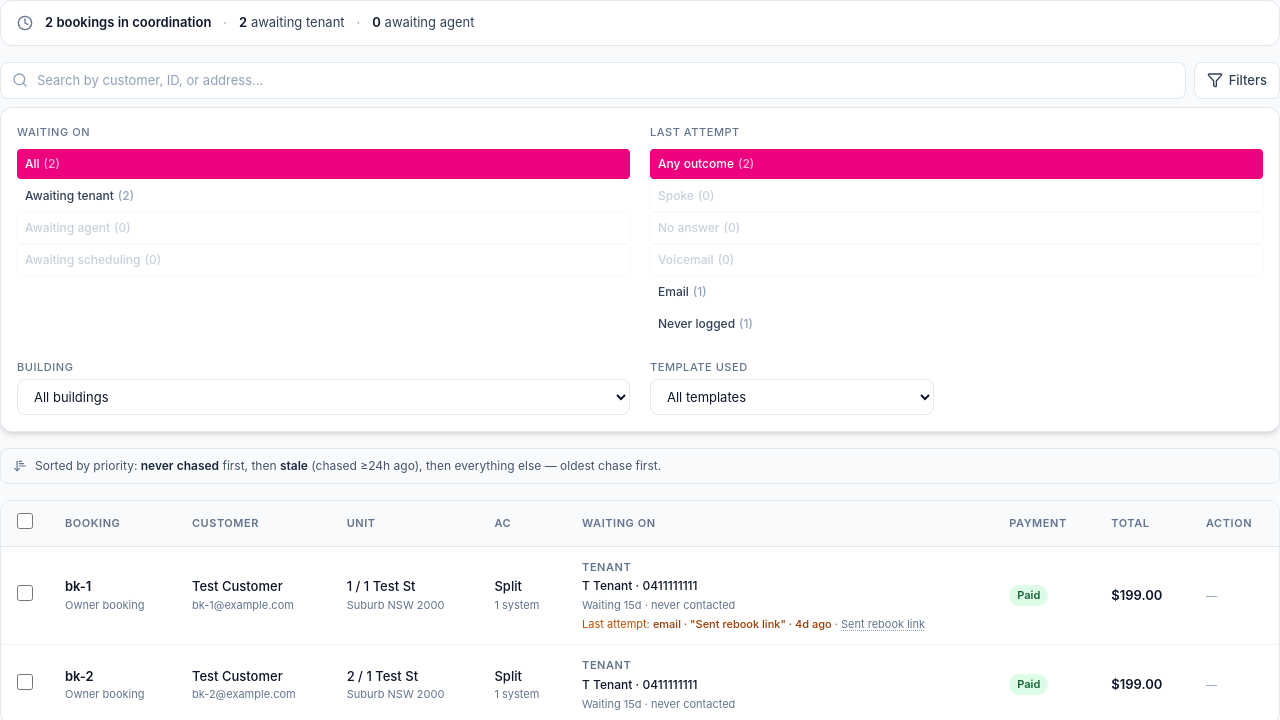
Test: AwaitingCoordinationView · bulk template picker sparklines › selecting an email-template option syncs the hidden select and closes the popover
Click the checkbox with test id "checkbox-coordination-row-bk-1".
click(25, 592)  # box x1=17 y1=584 x2=33 y2=600
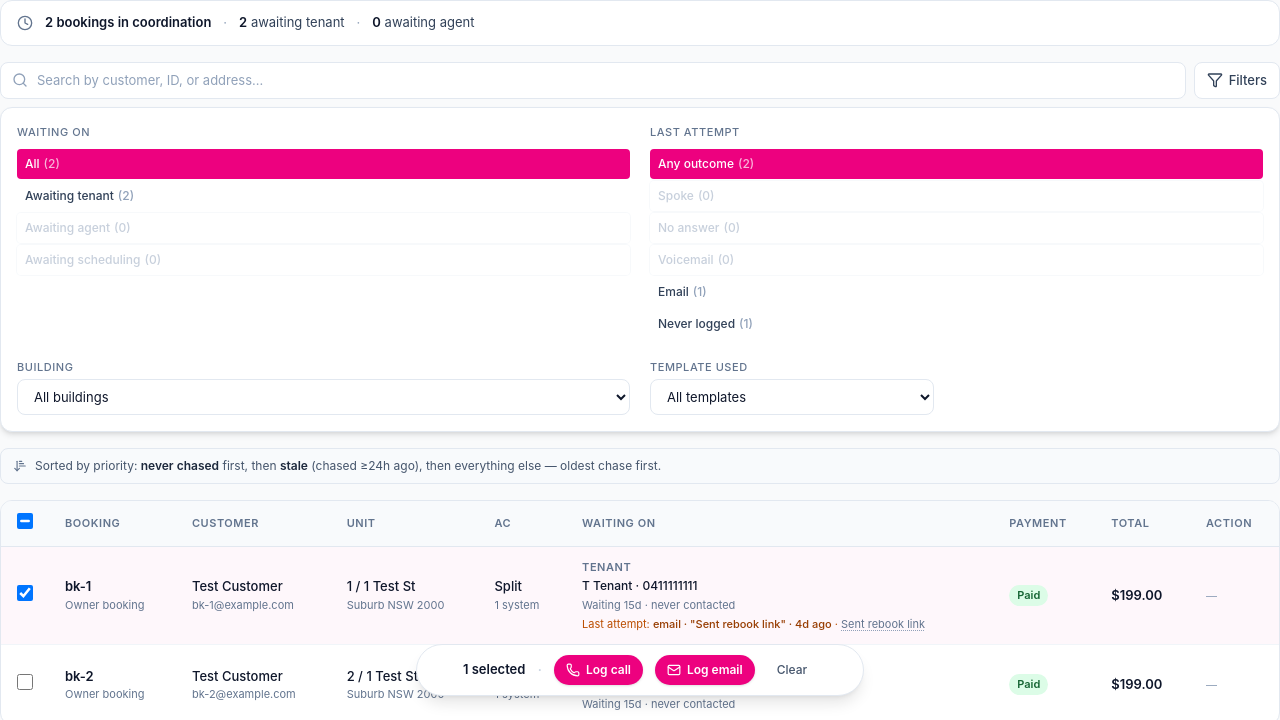
Click the checkbox with test id "checkbox-coordination-row-bk-2".
click(25, 682)  # box x1=17 y1=674 x2=33 y2=690
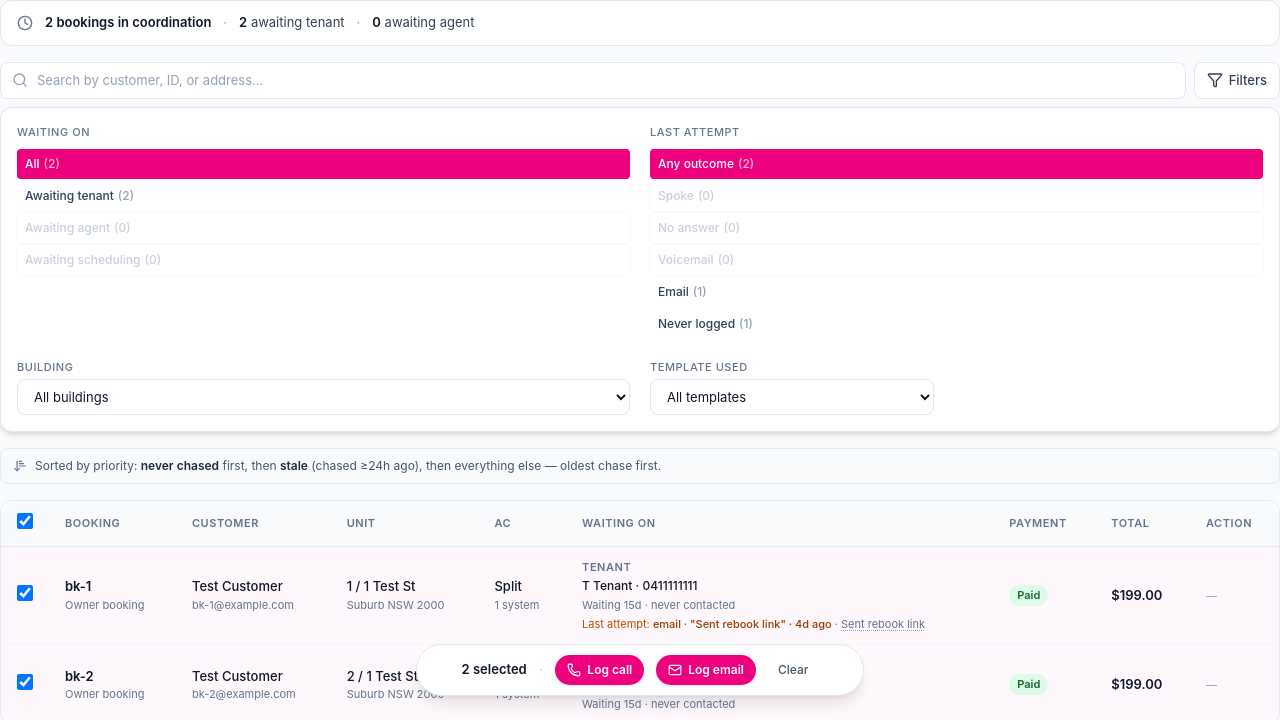
Click the button with test id "button-bulk-log-email".
click(706, 670)  # box x1=656 y1=655 x2=756 y2=685
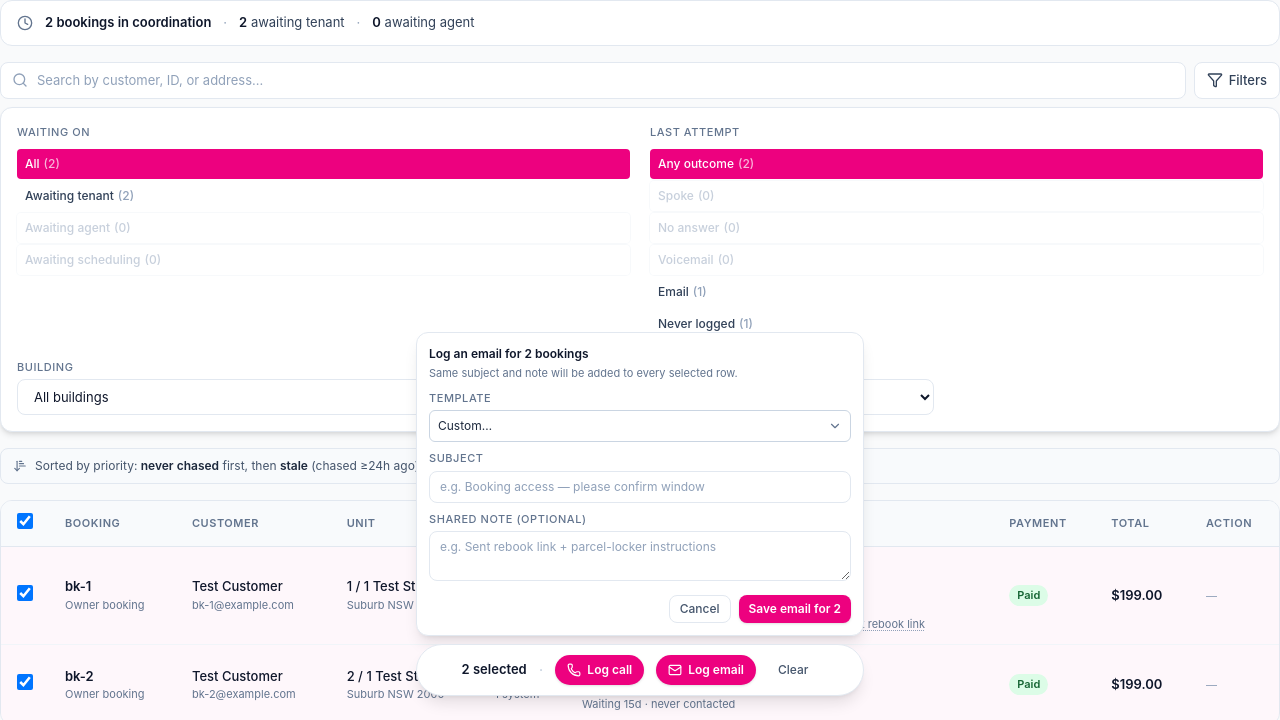
Click the button with test id "trigger-bulk-email-template".
click(465, 426)  # box x1=429 y1=410 x2=851 y2=442
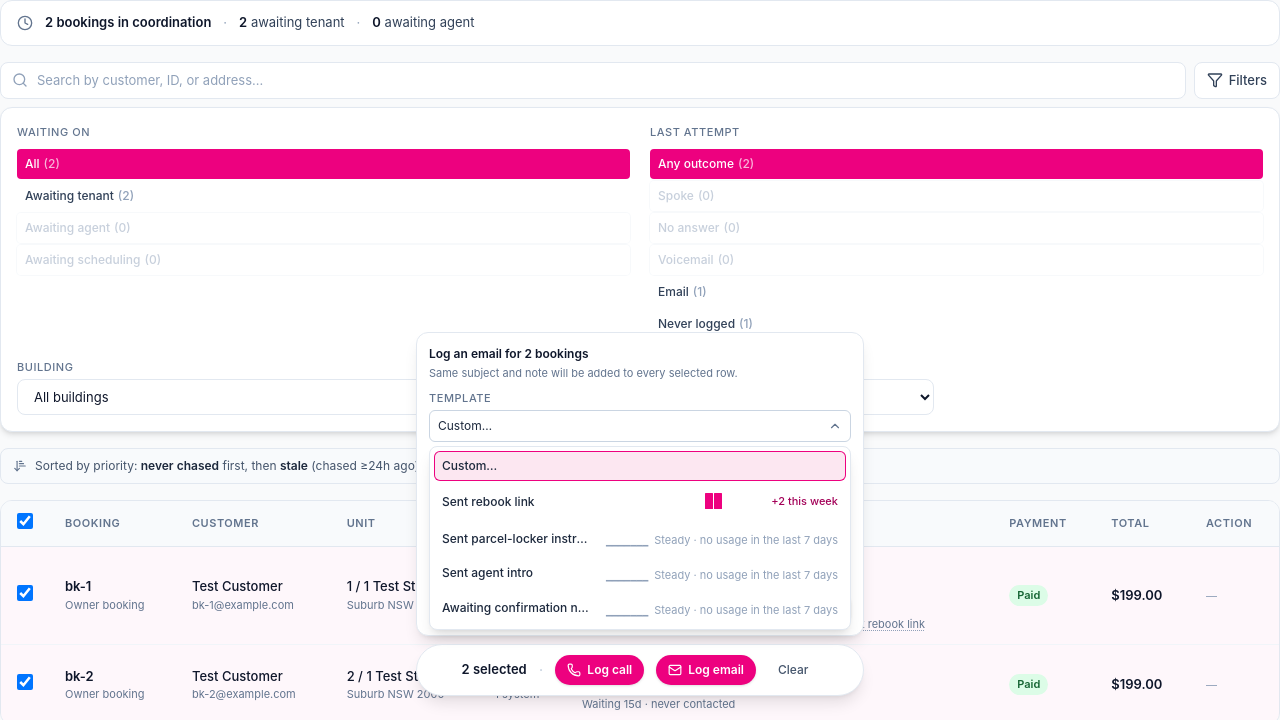
Result: the label with test id "select-bulk-email-template" does not hold "rebook_link" at x1=429 y1=390 x2=491 y2=404
Result: the list with test id "option-bulk-email-template-listbox" is shown at x1=429 y1=446 x2=851 y2=630
Click the option "Sent rebook link +2 this week".
click(488, 501)  # box x1=442 y1=493 x2=838 y2=509
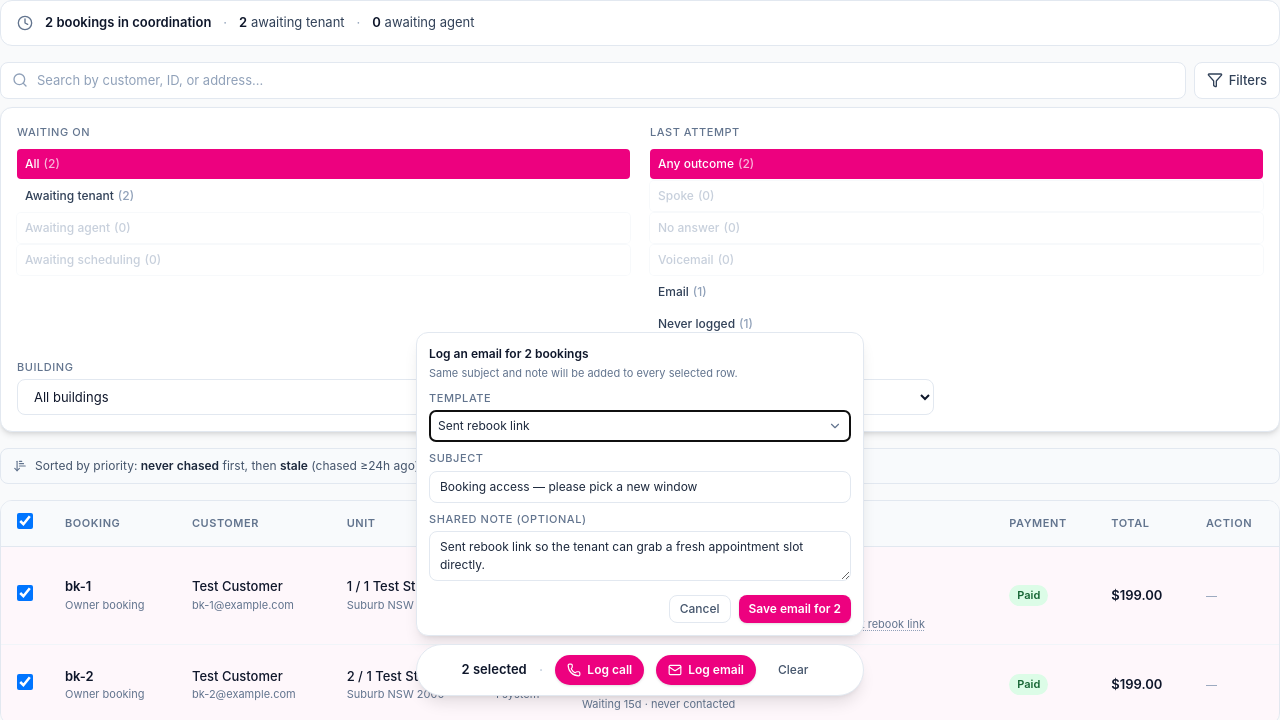
Result: the label with test id "select-bulk-email-template" holds "rebook_link" at x1=429 y1=390 x2=491 y2=404
Result: the list with test id "option-bulk-email-template-listbox" is gone
Result: the button with test id "trigger-bulk-email-template" reads "Sent rebook link" at x1=429 y1=410 x2=851 y2=442
